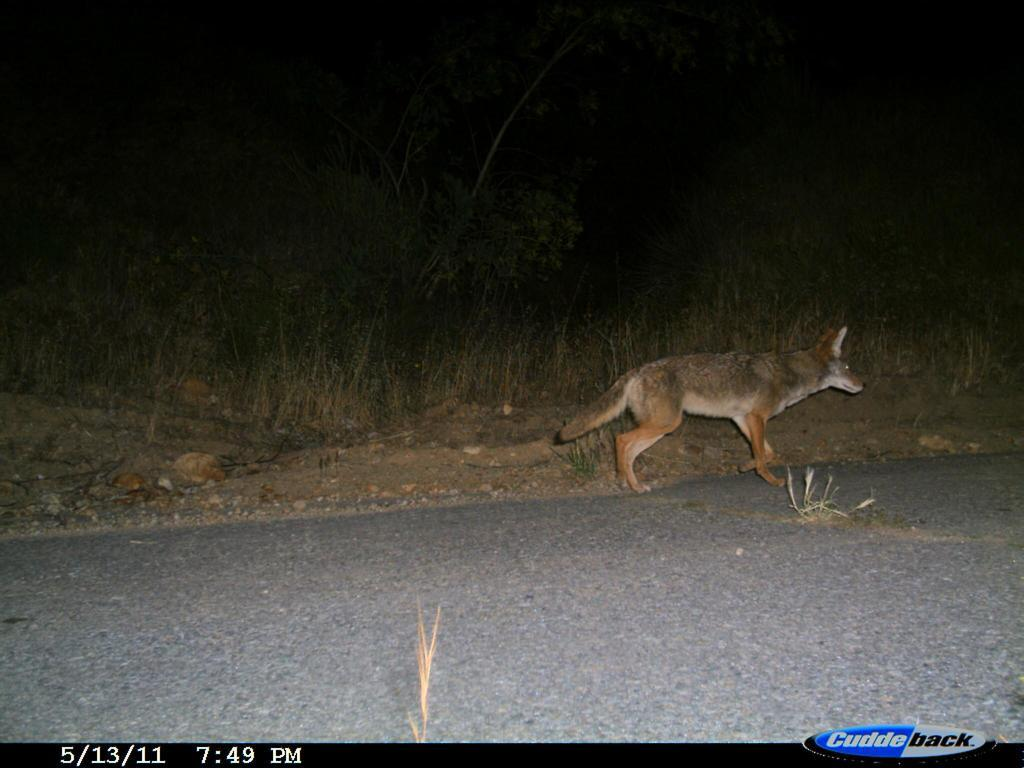coyote: (527, 296, 894, 513)
